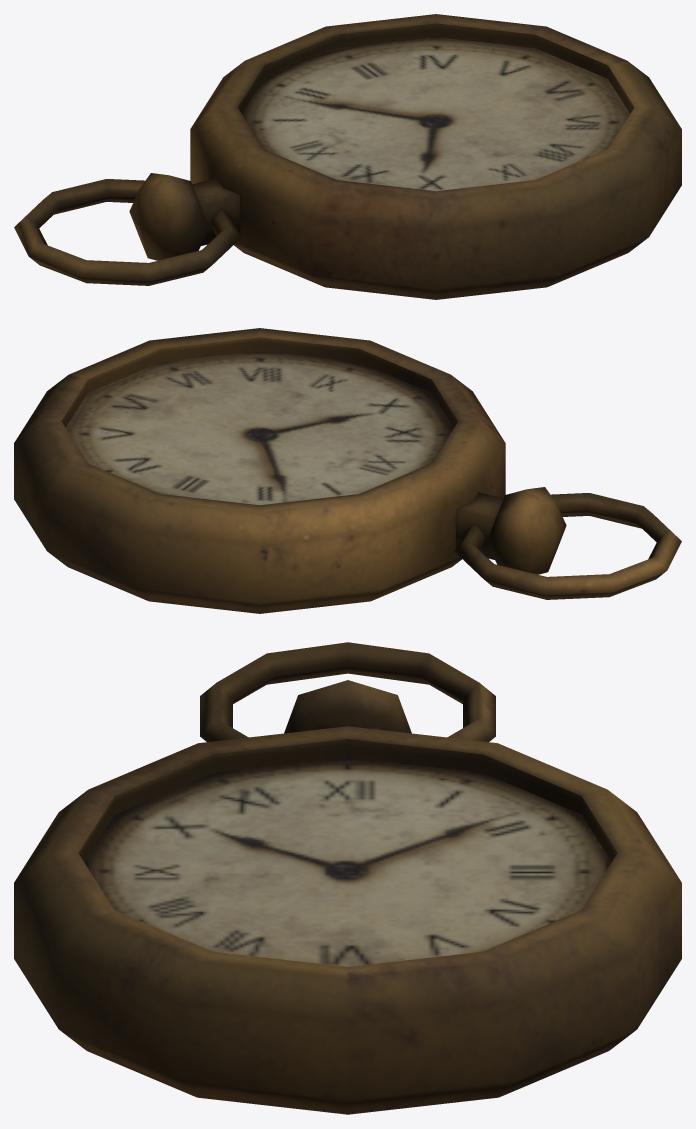
File: Relic_Sloth01.obj
3 renders of one model, top to bottom at view 1: azimuth 30°, elevation 25°; view 2: azimuth 150°, elevation 25°; view 3: azimuth 270°, elevation 25°, orthographic. The views are drawn at different scales.
Visible parts, largest first — view 1: Relic_Sloth01 Fix; view 2: Relic_Sloth01 Fix; view 3: Relic_Sloth01 Fix.
Part boxes in pixels (x1,y1,x2,y2): Relic_Sloth01 Fix: (14,14,681,299); Relic_Sloth01 Fix: (14,328,681,613); Relic_Sloth01 Fix: (14,642,681,1114).
Bounding box in the file's own units: 23.31 × 3.55 × 16.
Materials: 1 (1 with a texture image).
